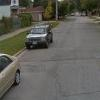Car: (22, 17, 58, 55)
